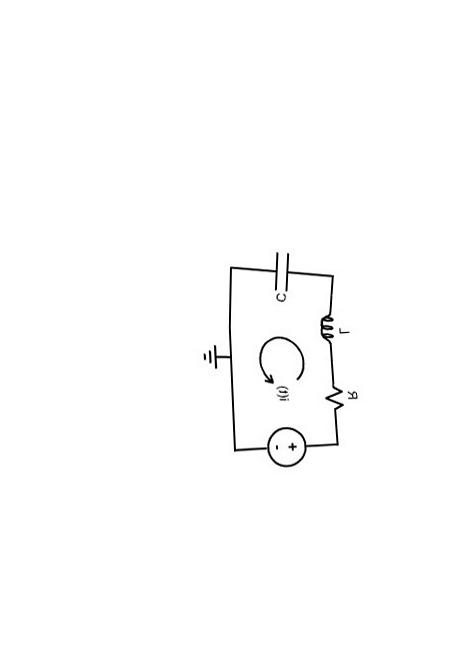Battery: (257, 416, 318, 479)
